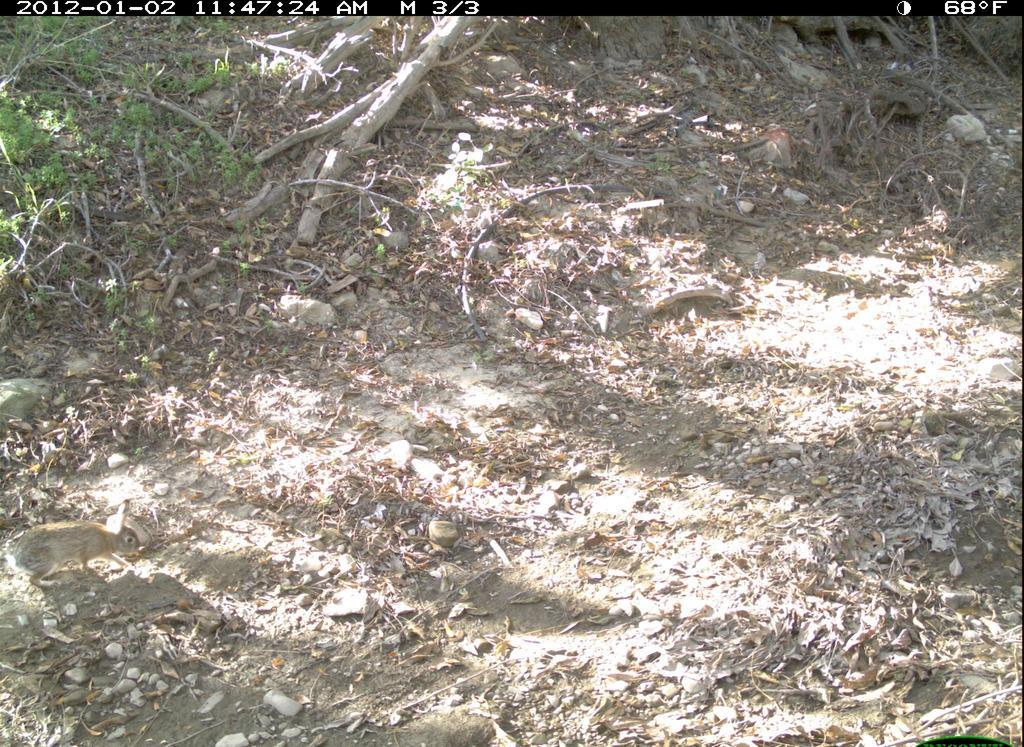rabbit: (7, 499, 161, 600)
